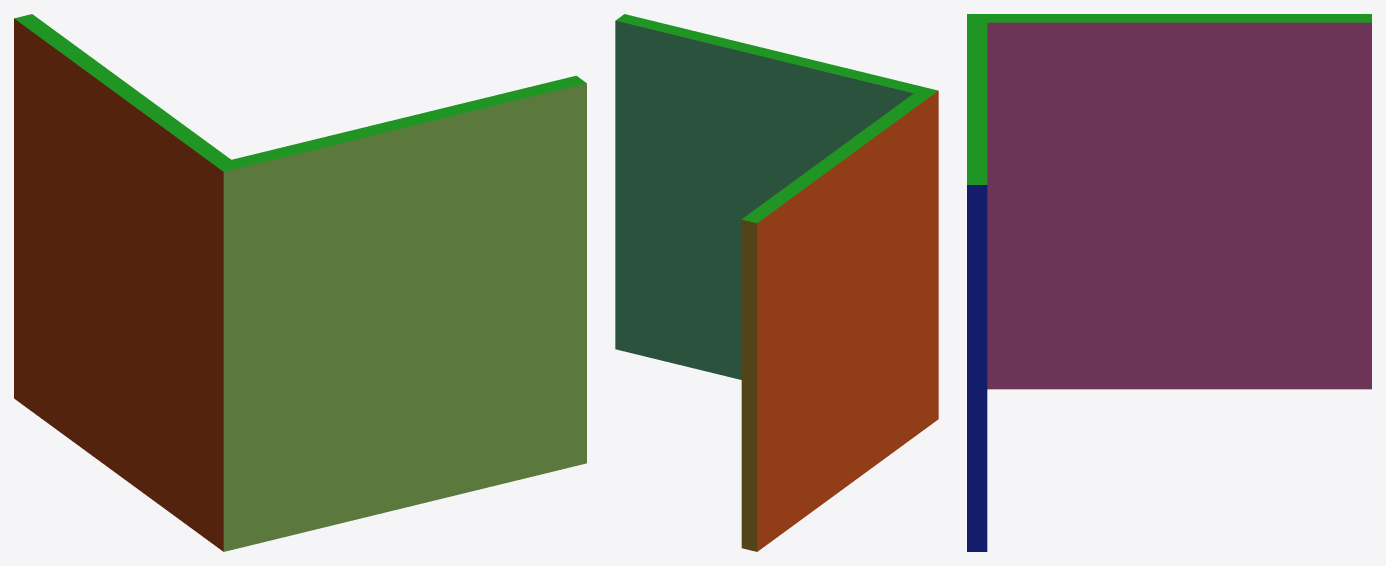
Rendered from Wall_Corner.fbx.
The picture shows the model from 3 angles, left to right: view 1: azimuth 30°, elevation 25°; view 2: azimuth 150°, elevation 25°; view 3: azimuth 270°, elevation 25°; orthographic projection. The views are drawn at different scales.
Parts seen in each view (by area): view 1: Wall_Corner; view 2: Wall_Corner; view 3: Wall_Corner.
Boxes of the visible parts, x1,y1,x2,y2 form: Wall_Corner: [14, 14, 586, 551]; Wall_Corner: [615, 14, 938, 551]; Wall_Corner: [967, 14, 1371, 551].
Size of the model in its own units: 3 by 3 by 3.
